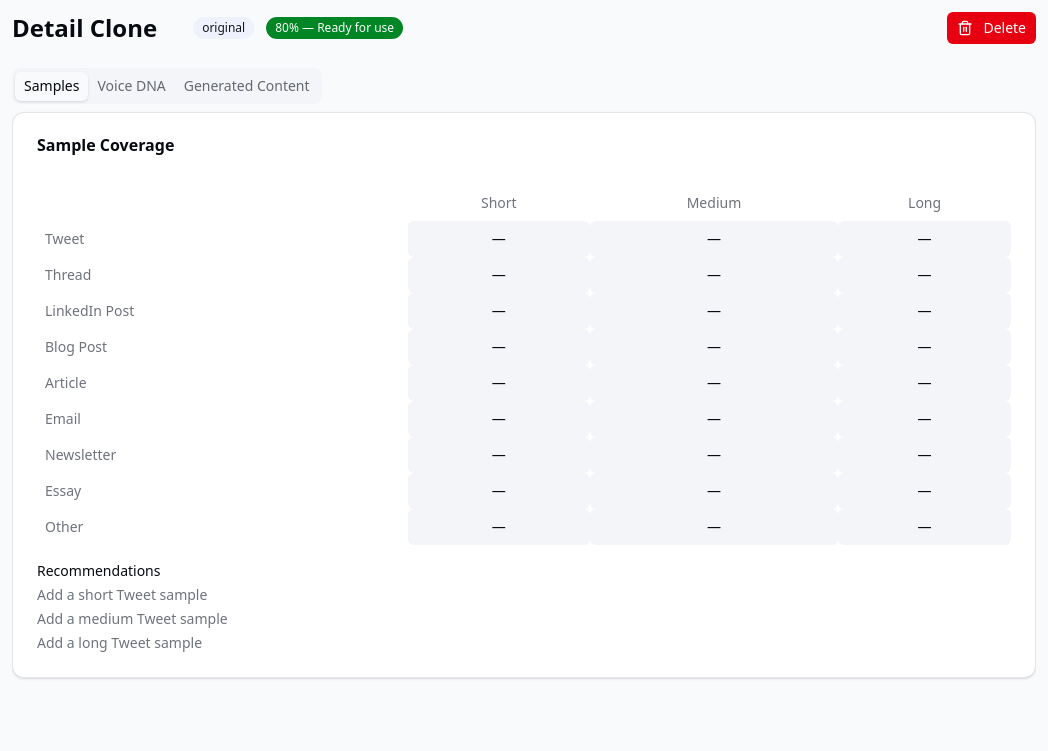
it: CloneDetailPage › switches tabs
This screenshot has width=1048, height=751.
Expected: the heading "Detail Clone" is shown, [12,12,157,44]
Click the tab "Voice DNA": (132, 86) [88,72,175,100]
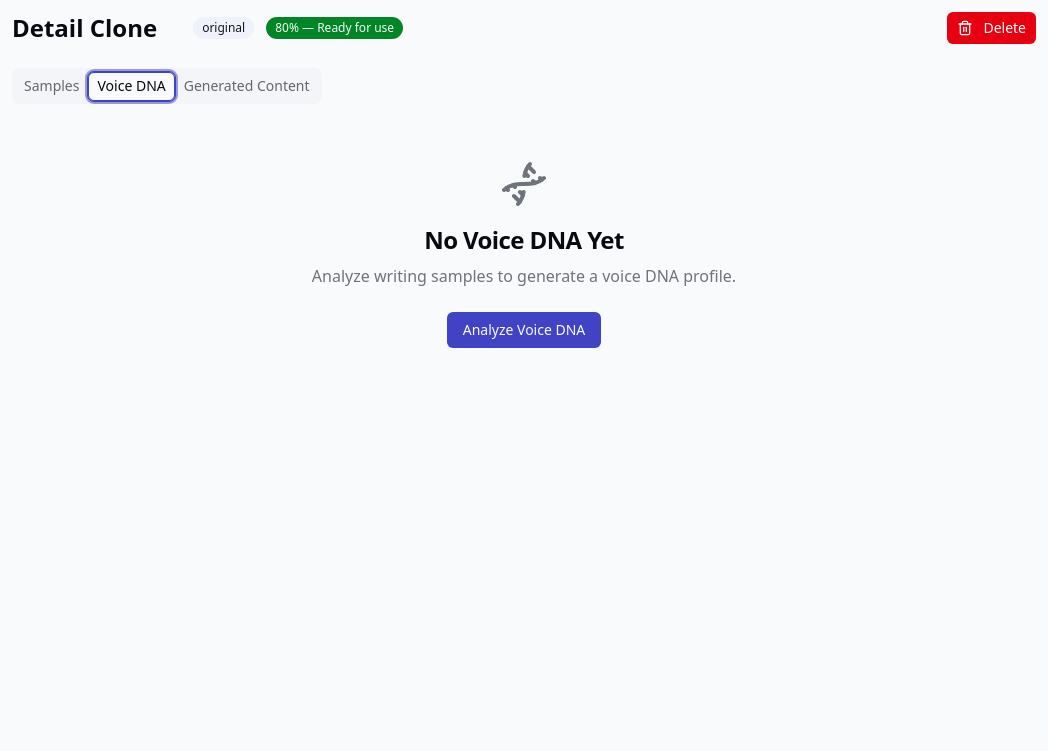
Expected: the heading "No Voice DNA Yet" is shown, [424,224,624,256]
Click the tab "Generated Content": (247, 86) [175,72,318,100]
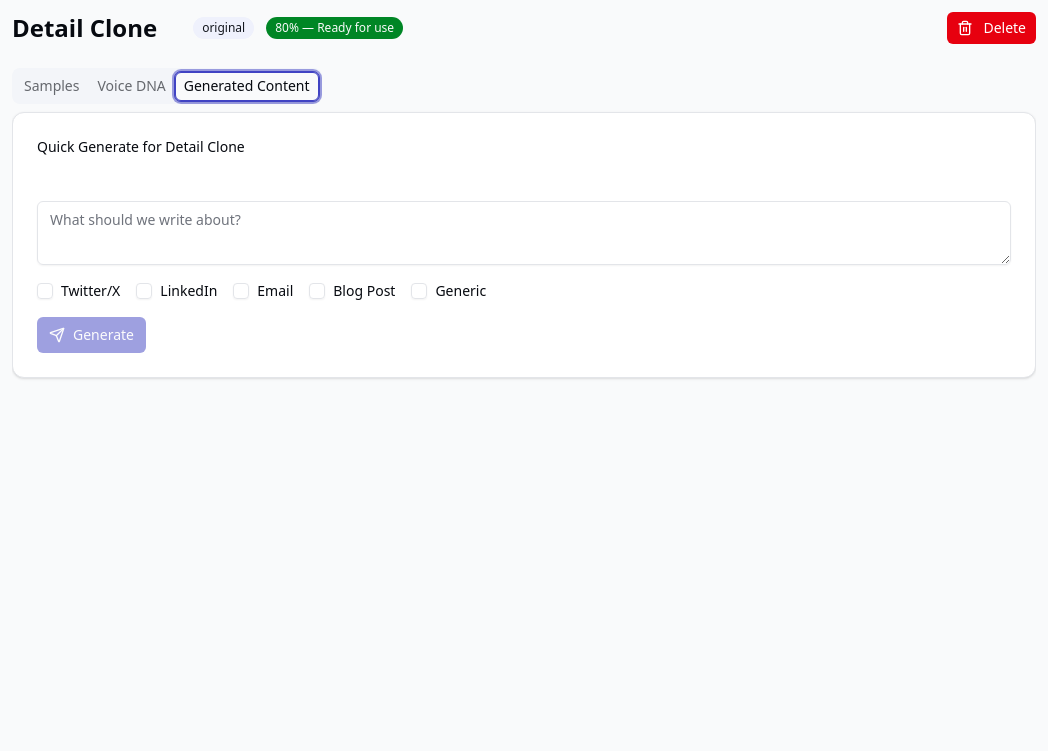
Expected: the text box with placeholder "What should we write about?" is shown, [37,201,1011,265]
